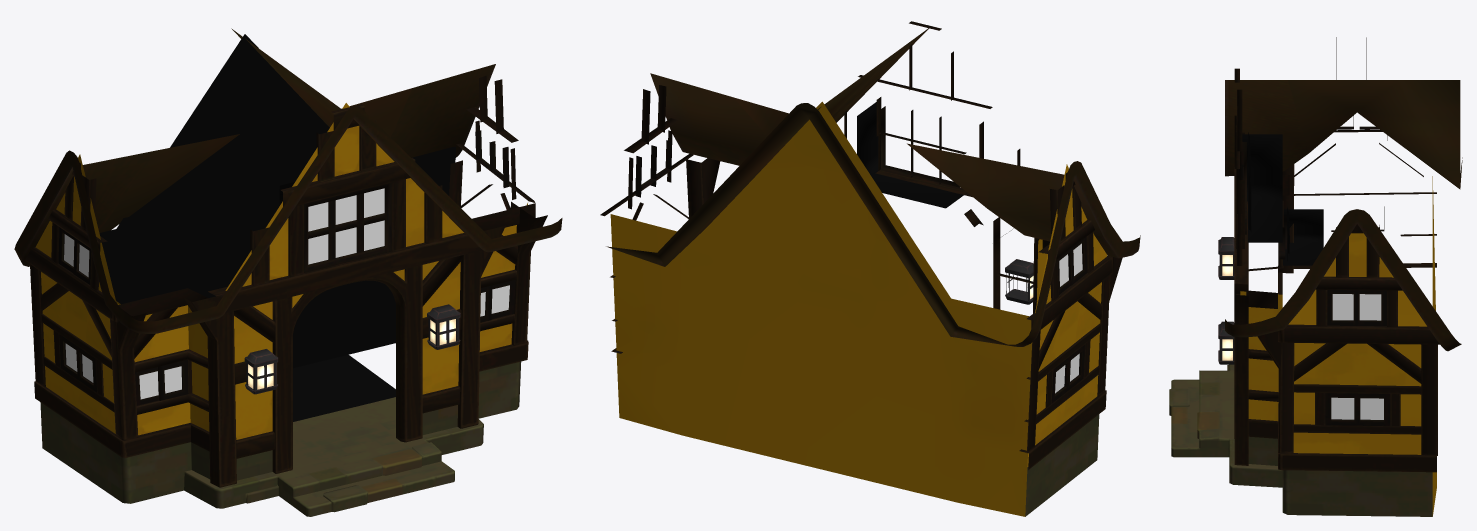
The model's file is chalet-wall-e.glb.
The picture shows the model from 3 angles, left to right: view 1: azimuth 30°, elevation 25°; view 2: azimuth 150°, elevation 25°; view 3: azimuth 270°, elevation 25°; orthographic projection. The views are drawn at different scales.
Parts seen in each view (by area): view 1: Brick00__mWallA, Wood00_low__mWallB, BrickBack__mHouseInner, WindowGlass00__mWindowGlass, LampDownL__mLamp, SideWindow01__mSideWindow; view 2: Brick00__mWallA, Wood00_low__mWallB, HouseInnerL__mHouseInner, SideWindow01__mSideWindow, LampDownL__mLamp; view 3: Brick00__mWallA, Wood00_low__mWallB, HouseInnerL__mHouseInner, SideWindow01__mSideWindow, LampDownL__mLamp, CL__mCurtain.
Part boxes in pixels (x1,y1,x2,y2): Brick00__mWallA: [14, 28, 562, 516]; Wood00_low__mWallB: [25, 76, 547, 487]; BrickBack__mHouseInner: [99, 34, 455, 421]; WindowGlass00__mWindowGlass: [139, 188, 509, 399]; LampDownL__mLamp: [244, 304, 460, 394]; SideWindow01__mSideWindow: [64, 234, 93, 382]; Brick00__mWallA: [606, 28, 1140, 516]; Wood00_low__mWallB: [600, 21, 1122, 469]; HouseInnerL__mHouseInner: [857, 102, 966, 208]; SideWindow01__mSideWindow: [1055, 243, 1082, 393]; LampDownL__mLamp: [1005, 259, 1033, 304]; Brick00__mWallA: [1169, 80, 1462, 516]; Wood00_low__mWallB: [1234, 37, 1439, 472]; HouseInnerL__mHouseInner: [1242, 134, 1323, 265]; SideWindow01__mSideWindow: [1331, 294, 1383, 419]; LampDownL__mLamp: [1218, 237, 1234, 364]; CL__mCurtain: [1248, 132, 1289, 261].
Size of the model in its own units: 48.63 by 39.51 by 29.5.
7 materials, 3 textured.
